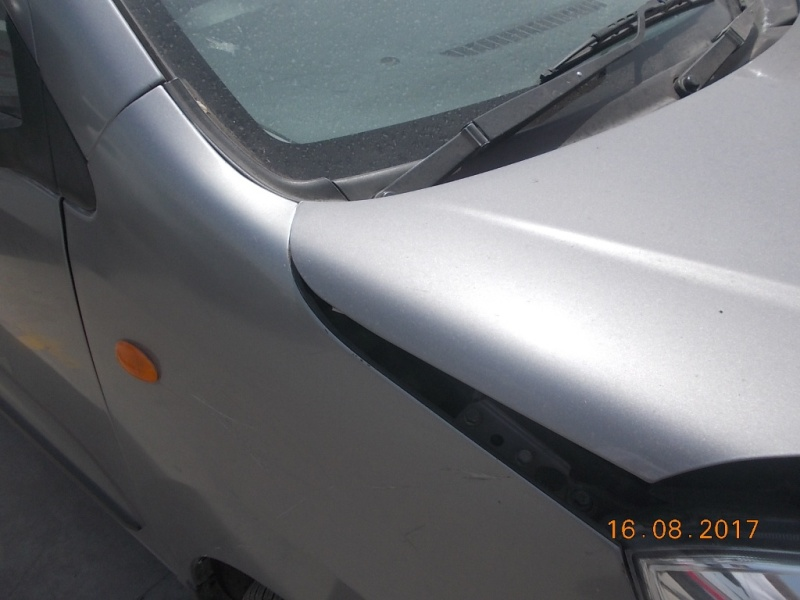Shatter: (141, 117, 655, 461)
